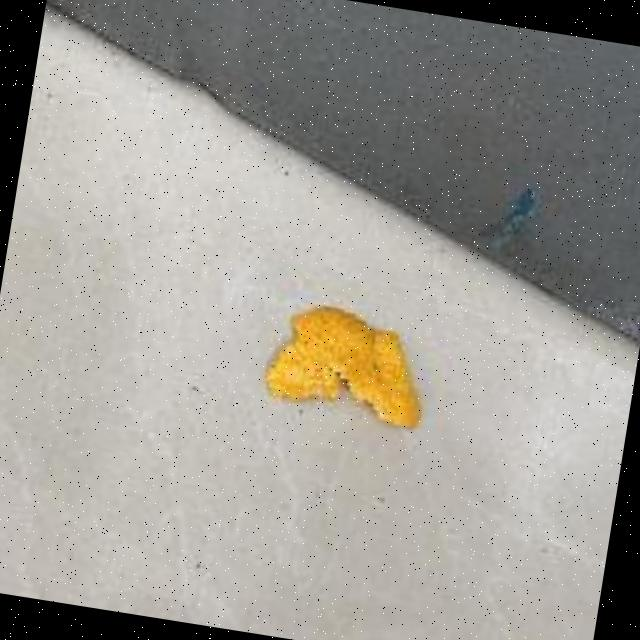orange-peel: (258, 295, 436, 432)
